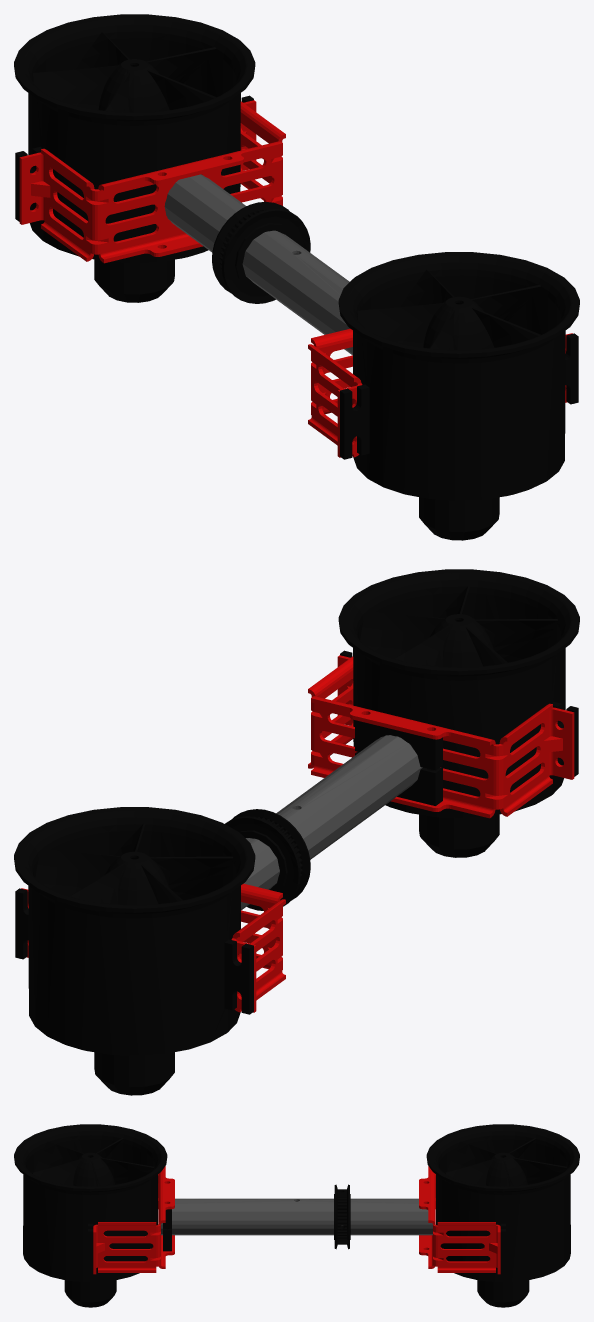
Rendered from ducted_fan_gimbal_pitch.dae.
3 views of the same model, one above another, from view 1: azimuth 30°, elevation 25°; view 2: azimuth 150°, elevation 25°; view 3: azimuth 270°, elevation 25° (orthographic). The views are drawn at different scales.
Parts seen in each view (by area): view 1: Black_Metal, Red, Black_Nonmetal; view 2: Black_Metal, Red, Black_Nonmetal; view 3: Black_Metal, Black_Nonmetal, Red.
Boxes of the visible parts, box(x1,y1,x2,y2) form: Black_Metal: box(14, 14, 579, 540); Red: box(19, 100, 572, 457); Black_Nonmetal: box(164, 174, 352, 355); Black_Metal: box(14, 569, 579, 1095); Red: box(21, 655, 574, 1012); Black_Nonmetal: box(241, 735, 422, 910); Black_Metal: box(14, 1124, 579, 1307); Black_Nonmetal: box(161, 1198, 432, 1235); Red: box(93, 1166, 500, 1274).
Size of the model in its own units: 0.093 by 0.3059 by 0.0886.
